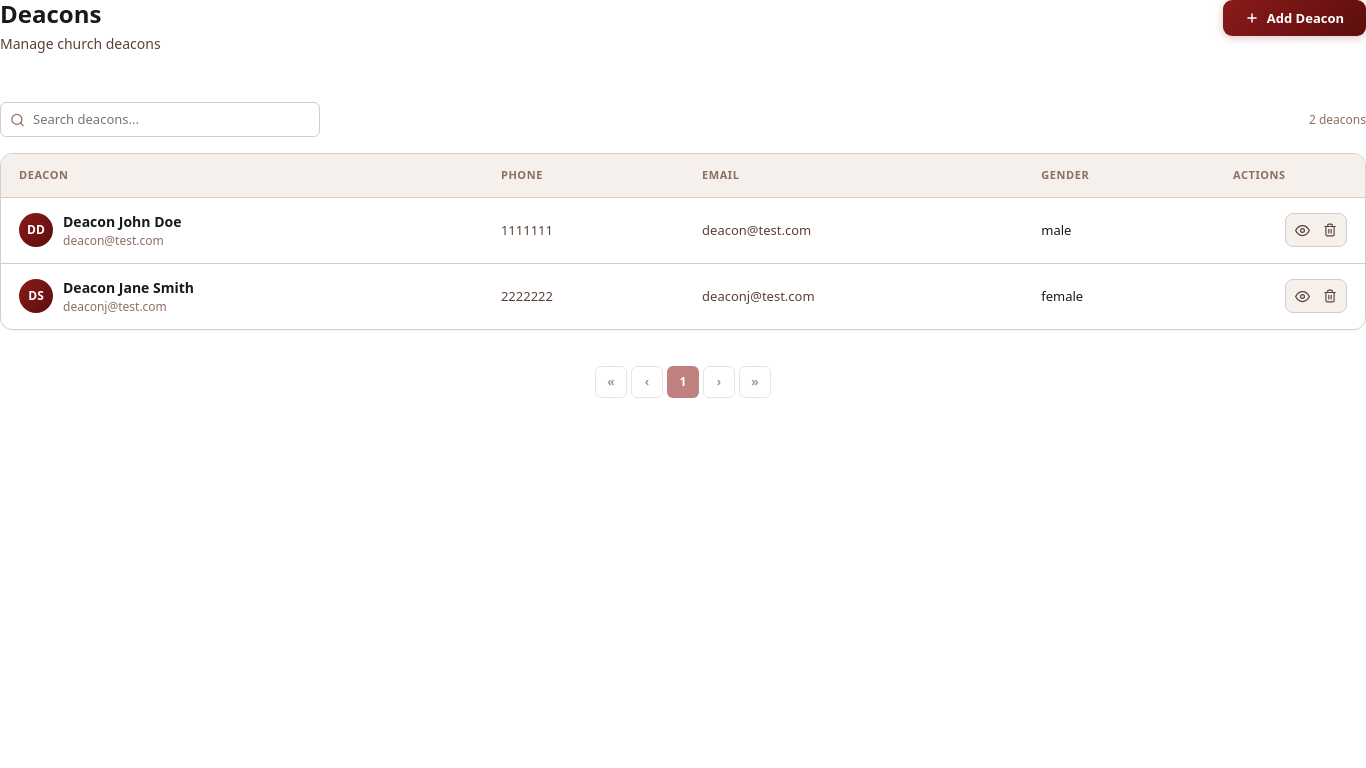
Test: Deacons › loads members on modal open with empty search
Click the button "Add Deacon".
click(1294, 18)  # box [1223,0,1365,36]
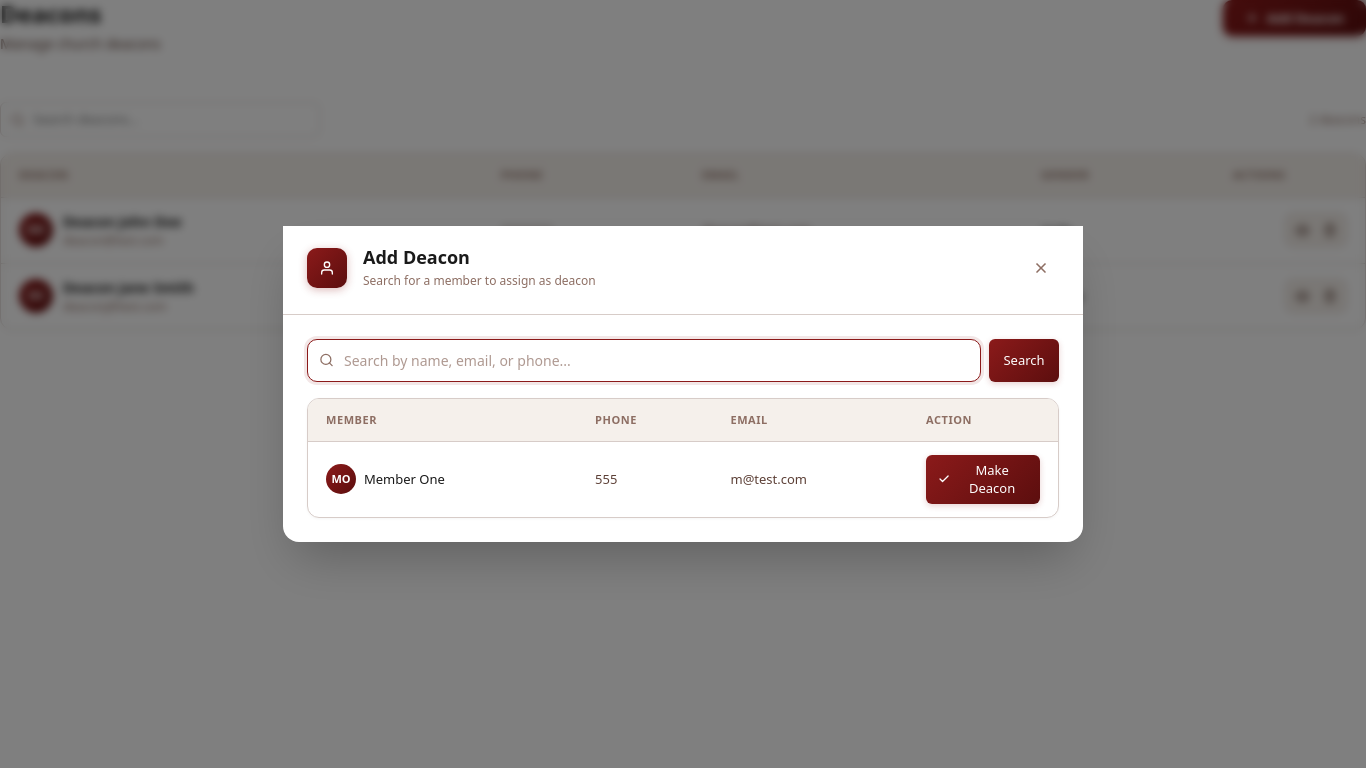
expect the text "Member One" is shown: met, box [364,470,445,489]
